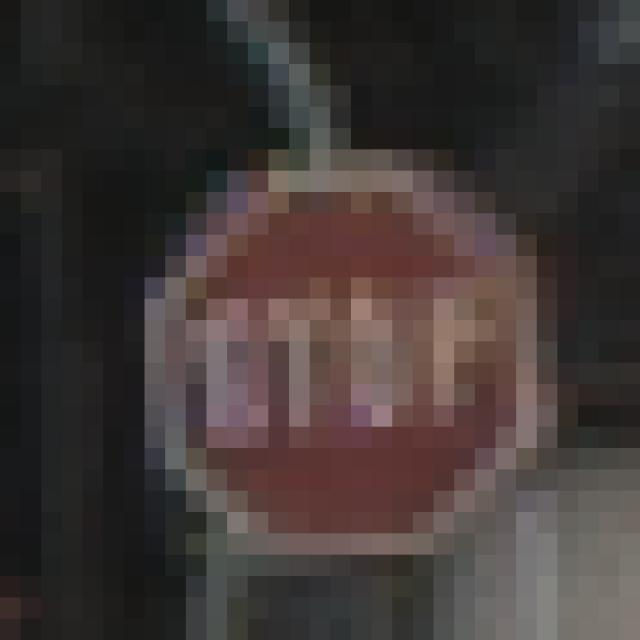STOP: (125, 129, 538, 534)
